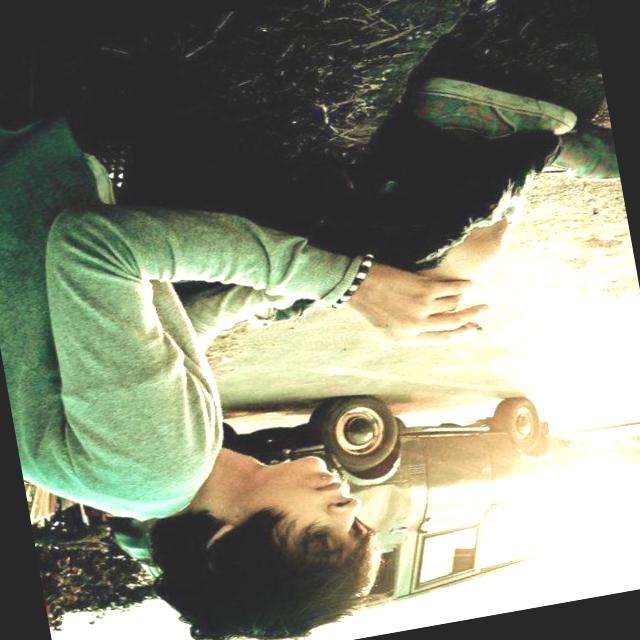smoke: (451, 313, 489, 344)
